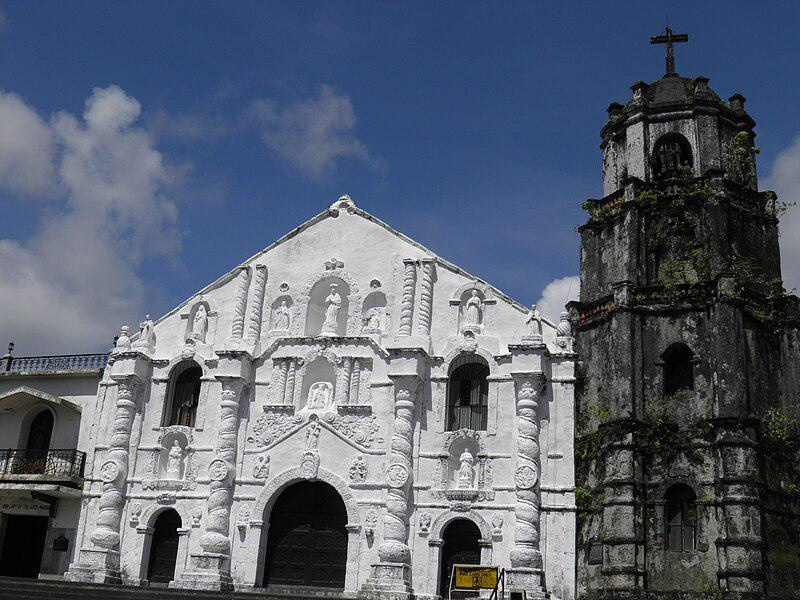daraga_church_daraga_albay: (85, 10, 800, 599)
vegetation_damage: (638, 173, 727, 301), (585, 403, 699, 458), (762, 406, 800, 501), (734, 253, 797, 306), (730, 128, 759, 186), (771, 191, 800, 227)
